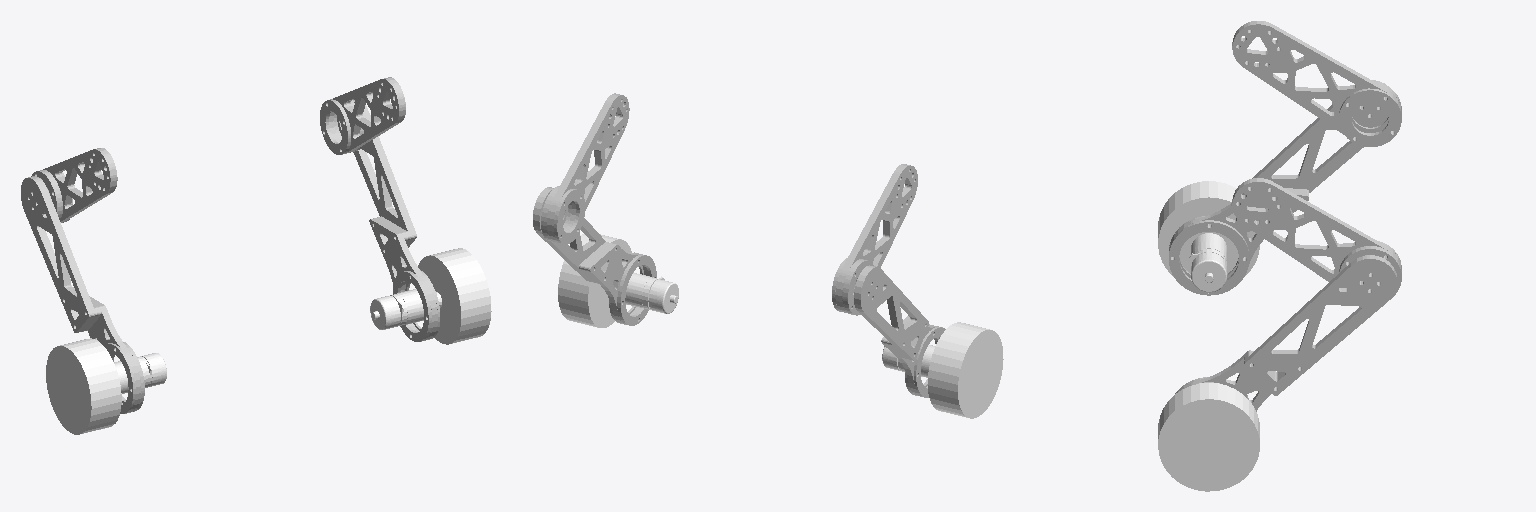
robot.urdf — xwl:
<?xml version="1.0" encoding="utf-8"?>
<!-- This URDF was automatically created by SolidWorks to URDF Exporter! Originally created by Stephen Brawner (brawner@gmail.com) 
     Commit Version: 1.6.0-4-g7f85cfe  Build Version: 1.6.7995.38578
     For more information, please see http://wiki.ros.org/sw_urdf_exporter -->
<robot
  name="xwl">
  <link
    name="base_link">
    <inertial>
      <origin
        xyz="-0.148647884432766 -0.125748530021313 0.11591176511708"
        rpy="0 0 0" />
      <mass
        value="0.964736467498676" />
      <inertia
        ixx="0.00215185004489963"
        ixy="-2.5976917140492E-05"
        ixz="1.65411047434281E-06"
        iyy="0.0031682952260047"
        iyz="1.29760204588942E-05"
        izz="0.00384275404733801" />
    </inertial>
    <visual>
      <origin
        xyz="0 0 0"
        rpy="0 0 0" />
      <geometry>
        <mesh
          filename="../meshes/base_link.STL" />
      </geometry>
      <material
        name="">
        <color
          rgba="0.847058823529412 0.847058823529412 0.847058823529412 1" />
      </material>
    </visual>
    <collision>
      <origin
        xyz="0 0 0"
        rpy="0 0 0" />
      <geometry>
        <mesh
          filename="../meshes/base_link.STL" />
      </geometry>
    </collision>
  </link>
  <link
    name="rl_0">
    <inertial>
      <origin
        xyz="0.051726013757407 -7.58097688791093E-09 0.00301382343085216"
        rpy="0 0 0" />
      <mass
        value="0.0539487688769615" />
      <inertia
        ixx="8.34566712953428E-06"
        ixy="1.48020514319599E-12"
        ixz="-1.95665393447113E-19"
        iyy="5.05565710870789E-05"
        iyz="6.11581196493638E-20"
        izz="5.8633608668392E-05" />
    </inertial>
    <visual>
      <origin
        xyz="0 0 0"
        rpy="0 0 0" />
      <geometry>
        <mesh
          filename="../meshes/rl_0.STL" />
      </geometry>
      <material
        name="">
        <color
          rgba="0.847058823529412 0.847058823529412 0.847058823529412 1" />
      </material>
    </visual>
    <collision>
      <origin
        xyz="0 0 0"
        rpy="0 0 0" />
      <geometry>
        <mesh
          filename="../meshes/rl_0.STL" />
      </geometry>
    </collision>
  </link>
  <joint
    name="rl_Joint0"
    type="revolute">
    <origin
      xyz="-0.271 -0.0920000000000081 0.112435028842533"
      rpy="-1.5707963267949 0.597802958563554 1.5707963267949" />
    <parent
      link="base_link" />
    <child
      link="rl_0" />
    <axis
      xyz="0 0 1" />
    <limit
      lower="-1.4"
      upper="0.57"
      effort="10"
      velocity="1000" />
  </joint>
  <link
    name="rl_1">
    <inertial>
      <origin
        xyz="-0.000707583579239189 0.0756320595579549 0.00722972403481786"
        rpy="0 0 0" />
      <mass
        value="0.0813868914099339" />
      <inertia
        ixx="7.96384644614564E-05"
        ixy="-8.20260026982934E-07"
        ixz="-1.36039849408959E-20"
        iyy="1.14345776056143E-05"
        iyz="3.02898075899943E-20"
        izz="9.06649115347401E-05" />
    </inertial>
    <visual>
      <origin
        xyz="0 0 0"
        rpy="0 0 0" />
      <geometry>
        <mesh
          filename="../meshes/rl_1.STL" />
      </geometry>
      <material
        name="">
        <color
          rgba="0.847058823529412 0.847058823529412 0.847058823529412 1" />
      </material>
    </visual>
    <collision>
      <origin
        xyz="0 0 0"
        rpy="0 0 0" />
      <geometry>
        <mesh
          filename="../meshes/rl_1.STL" />
      </geometry>
    </collision>
  </link>
  <joint
    name="rl_Joint1"
    type="revolute">
    <origin
      xyz="0.0899999999999994 0 0.0200000000000001"
      rpy="3.14159265358979 0 -2.94104407021283" />
    <parent
      link="rl_0" />
    <child
      link="rl_1" />
    <axis
      xyz="0 0 -1" />
    <limit
      lower="-1.1"
      upper="1.44"
      effort="10"
      velocity="1000" />
  </joint>
  <link
    name="rw">
    <inertial>
      <origin
        xyz="-3.38122281384745E-06 1.0426947740616E-05 0.0383113208613082"
        rpy="0 0 0" />
      <mass
        value="0.249620692834506" />
      <inertia
        ixx="6.61567560166163E-05"
        ixy="4.3798158504817E-09"
        ixz="-8.0419858669801E-09"
        iyy="6.61276181127672E-05"
        iyz="-1.0641712701471E-08"
        izz="6.89319078795149E-05" />
    </inertial>
    <visual>
      <origin
        xyz="0 0 0"
        rpy="0 0 0" />
      <geometry>
        <mesh
          filename="../meshes/rw.STL" />
      </geometry>
      <material
        name="">
        <color
          rgba="1 1 1 0.35" />
      </material>
    </visual>
    <collision>
      <origin
        xyz="0 0 0"
        rpy="0 0 0" />
      <geometry>
        <mesh
          filename="../meshes/rw.STL" />
      </geometry>
    </collision>
  </link>
  <joint
    name="rw_Joint"
    type="continuous">
    <origin
      xyz="-5.63207599916932E-05 0.149999989426573 -0.0308999999999994"
      rpy="0 0 -1.57079632679489" />
    <parent
      link="rl_1" />
    <child
      link="rw" />
    <axis
      xyz="0 0 -1" />
    <limit
      lower="-1000"
      upper="1000"
      effort="3"
      velocity="1000" />
  </joint>
  <link
    name="ll_0">
    <inertial>
      <origin
        xyz="0.0517260137574071 7.58097781078382E-09 -0.00298617656914813"
        rpy="0 0 0" />
      <mass
        value="0.0539487688769611" />
      <inertia
        ixx="8.34566712953419E-06"
        ixy="-1.48020514150192E-12"
        ixz="1.89938020078796E-19"
        iyy="5.05565710870789E-05"
        iyz="4.76716753805608E-20"
        izz="5.86336086683918E-05" />
    </inertial>
    <visual>
      <origin
        xyz="0 0 0"
        rpy="0 0 0" />
      <geometry>
        <mesh
          filename="../meshes/ll_0.STL" />
      </geometry>
      <material
        name="">
        <color
          rgba="0.847058823529412 0.847058823529412 0.847058823529412 1" />
      </material>
    </visual>
    <collision>
      <origin
        xyz="0 0 0"
        rpy="0 0 0" />
      <geometry>
        <mesh
          filename="../meshes/ll_0.STL" />
      </geometry>
    </collision>
  </link>
  <joint
    name="ll_Joint0"
    type="revolute">
    <origin
      xyz="-0.0230000000000002 -0.0920000000000081 0.112435028842533"
      rpy="1.5707963267949 0.597802958563554 1.5707963267949" />
    <parent
      link="base_link" />
    <child
      link="ll_0" />
    <axis
      xyz="0 0 1" />
    <limit
      lower="-0.57"
      upper="1.4"
      effort="10"
      velocity="1000" />
  </joint>
  <link
    name="ll1">
    <inertial>
      <origin
        xyz="0.053674367817541 0.0532895050351096 -0.00722972403481776"
        rpy="0 0 0" />
      <mass
        value="0.0813868914099337" />
      <inertia
        ixx="4.38331643112231E-05"
        ixy="-3.40692522364307E-05"
        ixz="-3.12981349515153E-20"
        iyy="4.72398777558472E-05"
        iyz="-5.49423618049951E-20"
        izz="9.06649115347398E-05" />
    </inertial>
    <visual>
      <origin
        xyz="0 0 0"
        rpy="0 0 0" />
      <geometry>
        <mesh
          filename="../meshes/ll1.STL" />
      </geometry>
      <material
        name="">
        <color
          rgba="0.847058823529412 0.847058823529412 0.847058823529412 1" />
      </material>
    </visual>
    <collision>
      <origin
        xyz="0 0 0"
        rpy="0 0 0" />
      <geometry>
        <mesh
          filename="../meshes/ll1.STL" />
      </geometry>
    </collision>
  </link>
  <joint
    name="ll1_Joint"
    type="revolute">
    <origin
      xyz="0.0899999999999994 0 0.014"
      rpy="0 0 -2.54378969502624" />
    <parent
      link="ll_0" />
    <child
      link="ll1" />
    <axis
      xyz="0 0 1" />
    <limit
      lower="-1.44"
      upper="1.1"
      effort="10"
      velocity="1000" />
  </joint>
  <link
    name="lw">
    <inertial>
      <origin
        xyz="1.09495559201256E-05 4.94751470292432E-07 -0.0383113190216952"
        rpy="0 0 0" />
      <mass
        value="0.24962075008232" />
      <inertia
        ixx="6.61283676661181E-05"
        ixy="-6.28063119792618E-09"
        ixz="7.14570600705707E-09"
        iyy="6.61560828203986E-05"
        iyz="1.12714557605553E-08"
        izz="6.89319078378847E-05" />
    </inertial>
    <visual>
      <origin
        xyz="0 0 0"
        rpy="0 0 0" />
      <geometry>
        <mesh
          filename="../meshes/lw.STL" />
      </geometry>
      <material
        name="">
        <color
          rgba="1 1 1 0.35" />
      </material>
    </visual>
    <collision>
      <origin
        xyz="0 0 0"
        rpy="0 0 0" />
      <geometry>
        <mesh
          filename="../meshes/lw.STL" />
      </geometry>
    </collision>
  </link>
  <joint
    name="lw_Joint"
    type="continuous">
    <origin
      xyz="0.107391680571114 0.104723573965523 0.0308999999999994"
      rpy="0 0 -0.798351541940511" />
    <parent
      link="ll1" />
    <child
      link="lw" />
    <axis
      xyz="0 0 1" />
    <limit
      lower="-1000"
      upper="1000"
      effort="3"
      velocity="1000" />
  </joint>
</robot>

--- What the picture shows (computed from the rendered views, not written in the file) ---
3 views of the same robot in one strip: view 1: azimuth 30°, elevation 25°; view 2: azimuth 150°, elevation 25°; view 3: azimuth 270°, elevation 25° (orthographic).
Robot: xwl — 7 links, 6 joints (4 revolute, 2 continuous); root link base_link; default pose: every joint at zero.
Links seen in each view (by area): view 1: rw, rl_1, lw, ll1, ll_0, rl_0; view 2: rw, ll_0, rl_1, ll1, rl_0, lw; view 3: lw, ll1, rl_0, rl_1, ll_0, rw.
Boxes of the visible links, x1,y1,x2,y2 form: rw: [46, 338, 166, 434]; rl_1: [21, 176, 144, 413]; lw: [370, 248, 491, 344]; ll1: [353, 100, 439, 341]; ll_0: [320, 77, 405, 154]; rl_0: [31, 148, 117, 222]; rw: [882, 322, 1003, 418]; ll_0: [541, 93, 629, 244]; rl_1: [854, 265, 945, 397]; ll1: [533, 187, 656, 325]; rl_0: [832, 164, 917, 315]; lw: [558, 234, 678, 327]; lw: [1158, 383, 1259, 491]; ll1: [1175, 255, 1396, 411]; rl_0: [1232, 21, 1401, 146]; rl_1: [1169, 80, 1388, 295]; ll_0: [1232, 178, 1401, 299]; rw: [1158, 181, 1259, 292].
Size in the robot's own frame: 0.3438 by 0.1623 by 0.2067 metres.
Meshes: 7 distinct files referenced, 6 mesh visuals loaded (6 binary STL); not drawn: 1 (reference not matched to a file when rendering).
